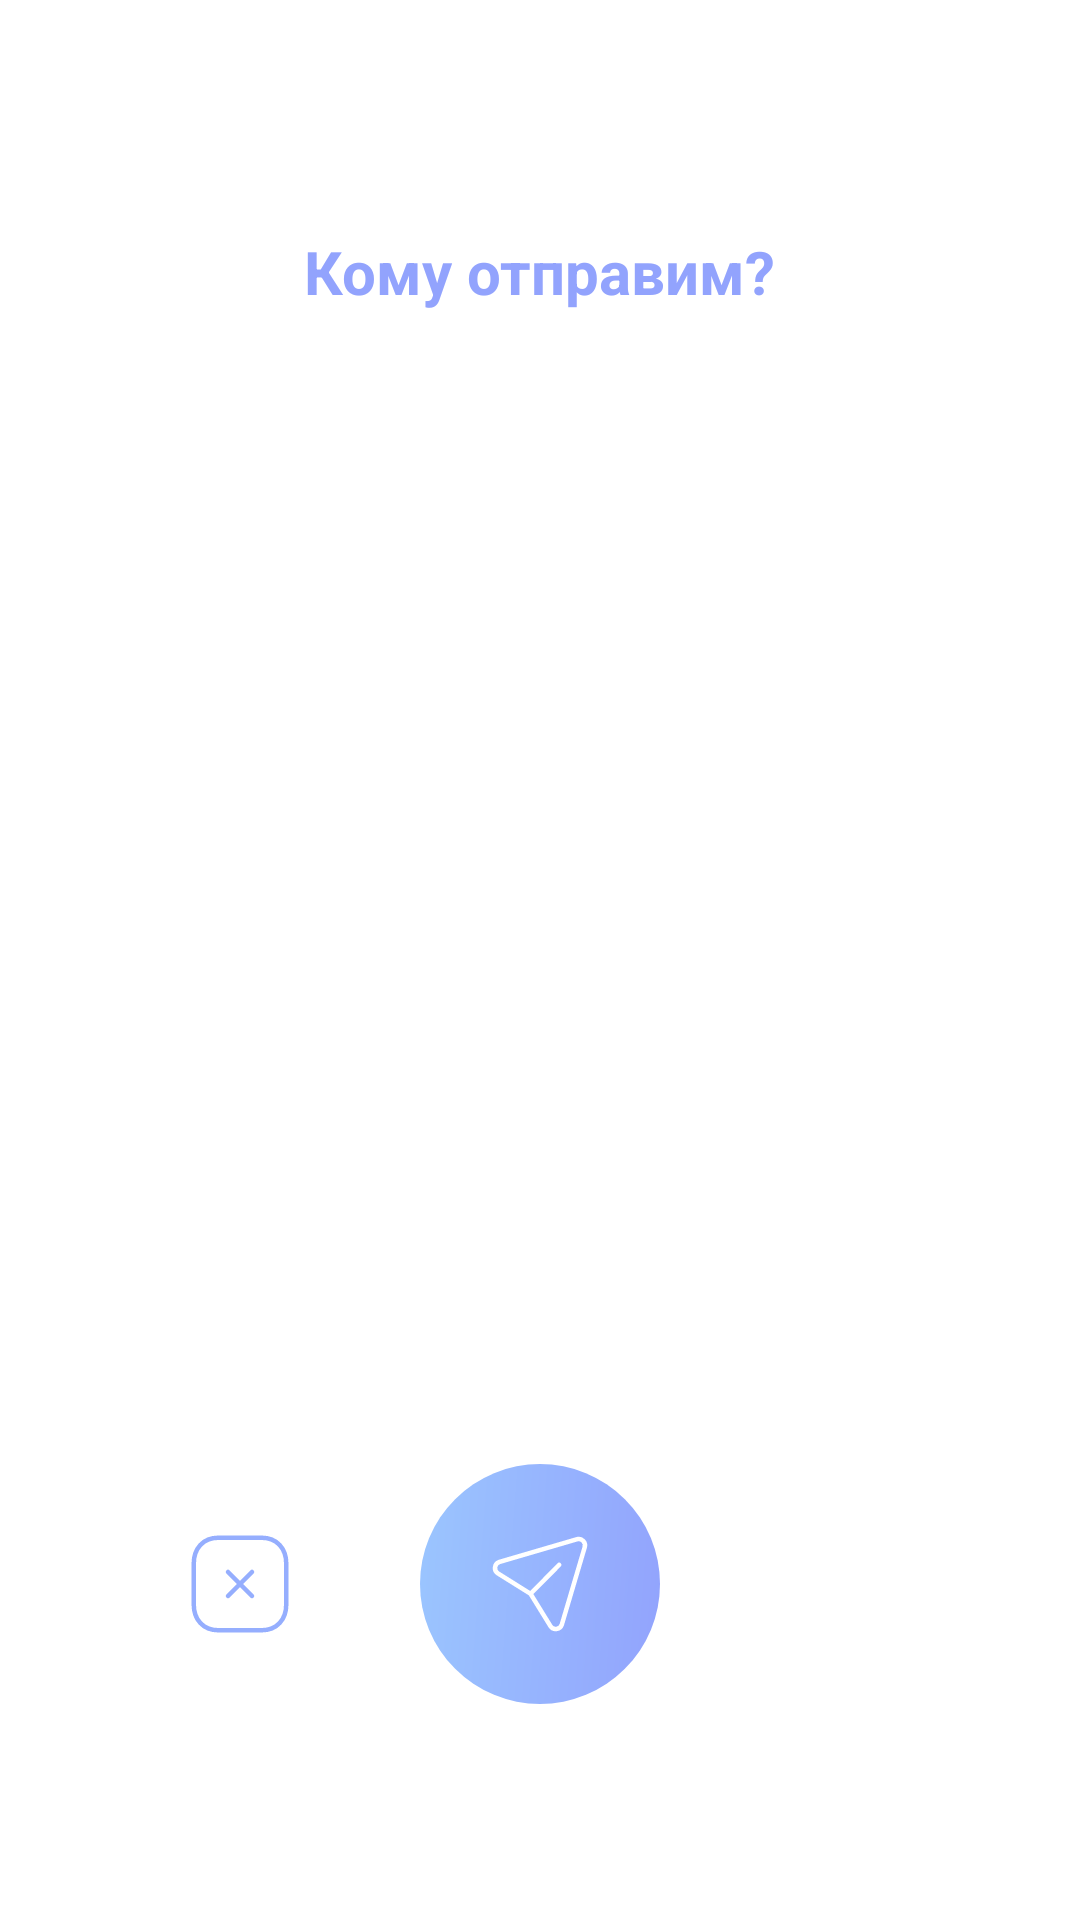

Locate icon controls on the screen. Image size 1080px x 1920px, boxes as box(x1, y1, x2, y2).
close square: box(191, 1535, 289, 1633)
send photo: box(420, 1464, 660, 1704)
